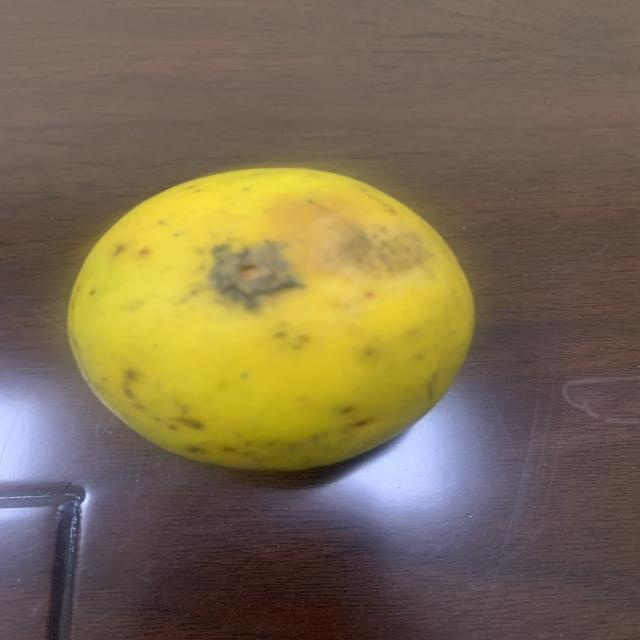agrume: (63, 170, 489, 474)
